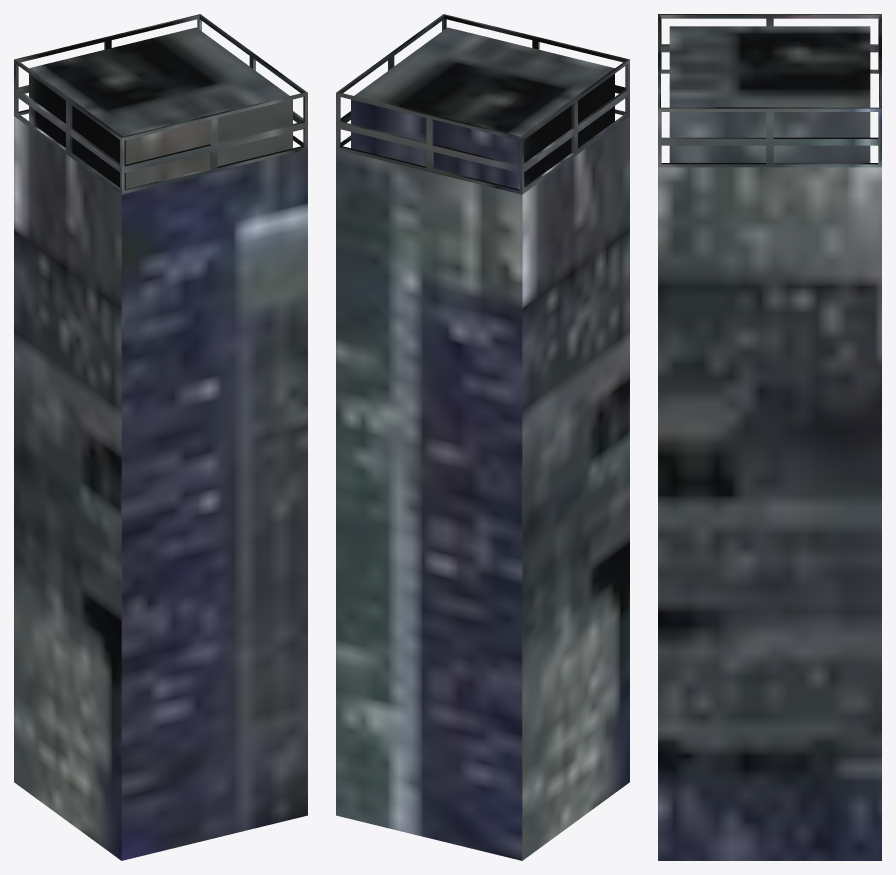
File: night-1.glb
The picture shows the model from 3 angles, left to right: view 1: azimuth 30°, elevation 25°; view 2: azimuth 150°, elevation 25°; view 3: azimuth 270°, elevation 25°; orthographic projection. The views are drawn at different scales.
Size of the model in its own units: 3.16 by 11.72 by 3.16.
1 material, 1 textured.
